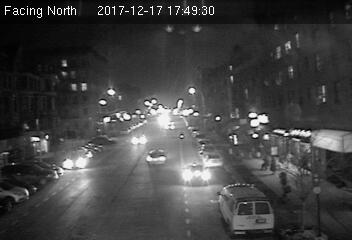car: (182, 162, 213, 188), (145, 148, 168, 166), (201, 152, 221, 165), (129, 133, 148, 146)
police: (218, 182, 276, 235)
